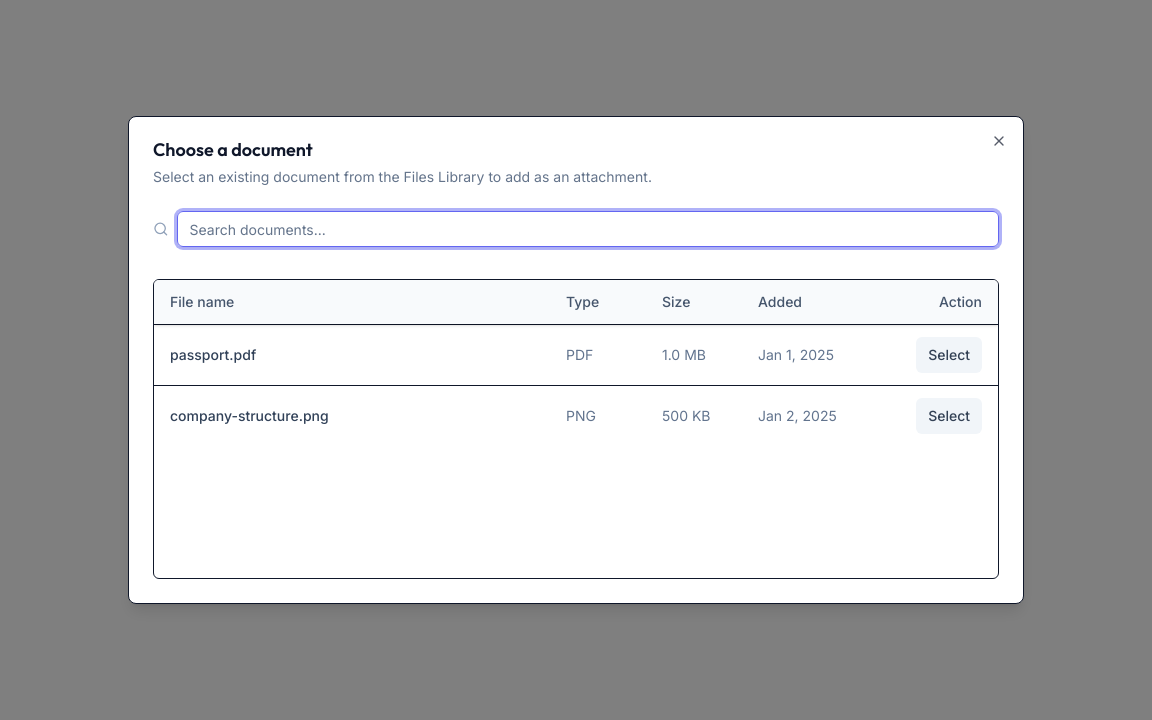
Test: DocumentPicker › filters documents by search query
Type "passport" into the field with placeholder "Search documents..." at (588, 229), box [176,211,999,247]
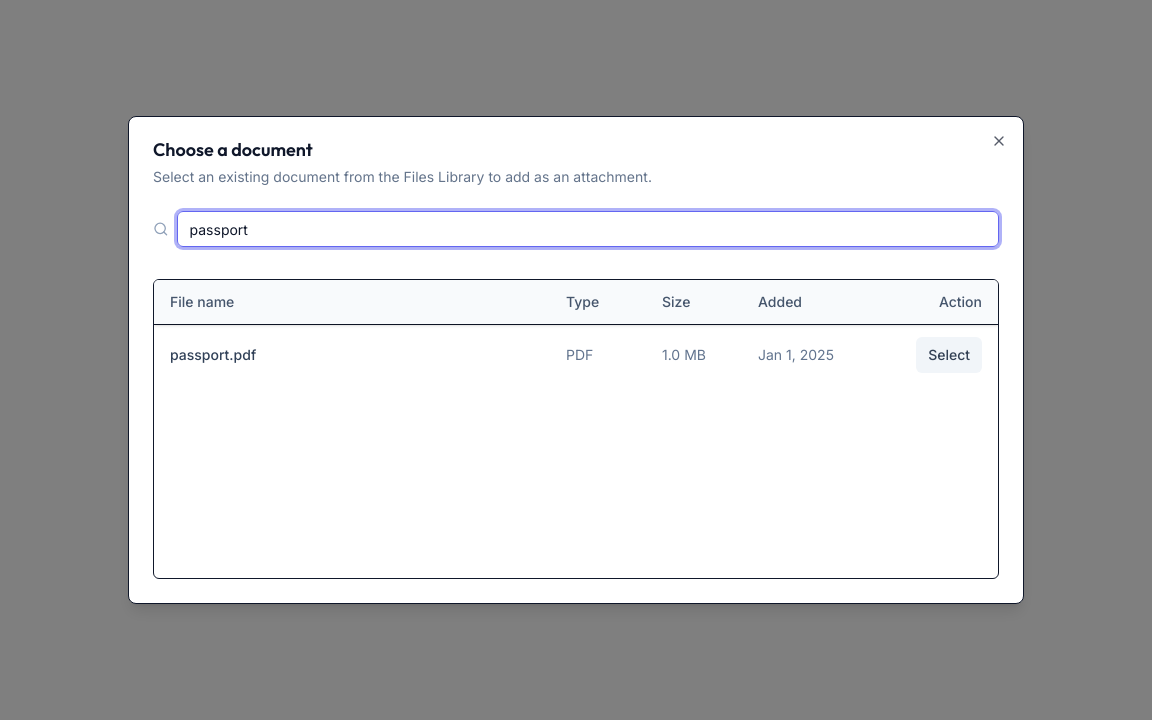
Expected: the text "passport.pdf" is shown, [154,324,550,385]
Result: the text "company-structure.png" is gone
